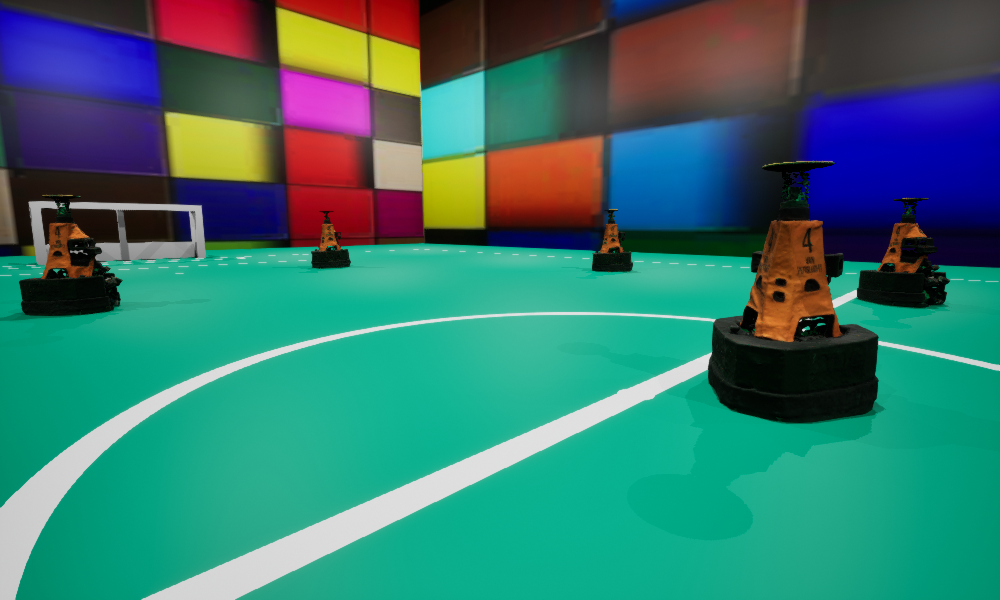0 orange robot TechUnited: (708, 161, 878, 422), (19, 195, 122, 315), (857, 198, 949, 307), (592, 209, 632, 271), (311, 211, 350, 268)
